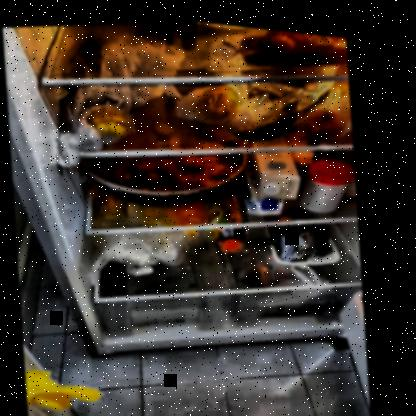broccoli: (271, 211, 340, 260)
carrot: (231, 20, 347, 69)
green_chillies: (225, 99, 302, 141)
lemon: (190, 76, 247, 119), (88, 98, 135, 140)
milk: (242, 142, 305, 211), (180, 16, 338, 41)
tomato: (306, 98, 350, 134)
